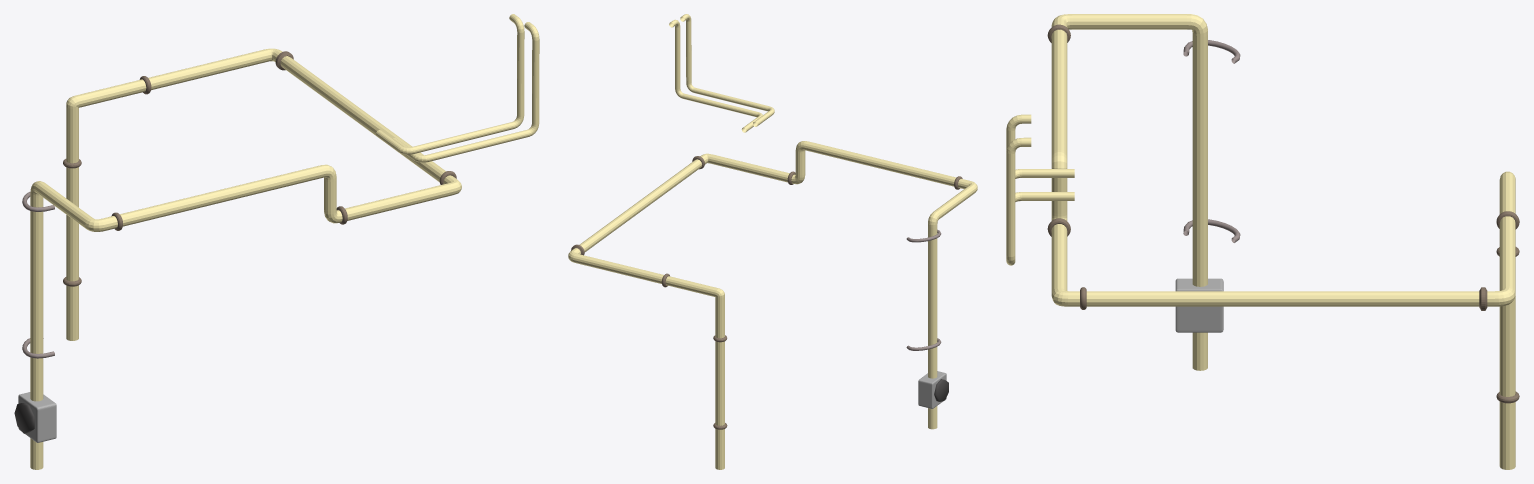
The model's file is Pipes.glb.
3 renders of one model, left to right at view 1: azimuth 30°, elevation 25°; view 2: azimuth 150°, elevation 25°; view 3: azimuth 270°, elevation 25°, orthographic. The views are drawn at different scales.
Visible parts, largest first — view 1: Pipes, Plane.021, Plane.022, Cube; view 2: Pipes, Plane.021, Plane.022, Cube; view 3: Pipes, Plane.022, Cube, Plane.021.
Part boxes in pixels (box(x1,y1,x2,y2)): Pipes: box(30, 48, 461, 469); Plane.021: box(375, 14, 524, 154); Plane.022: box(393, 22, 539, 162); Cube: box(18, 392, 56, 442); Pipes: box(568, 141, 977, 469); Plane.021: box(680, 14, 774, 126); Plane.022: box(669, 19, 762, 132); Cube: box(918, 371, 946, 408); Pipes: box(1051, 14, 1515, 469); Plane.022: box(1006, 137, 1074, 265); Cube: box(1175, 278, 1223, 332); Plane.021: box(1006, 114, 1074, 178).
Bounding box in the file's own units: 10.96 × 9.69 × 9.04.
